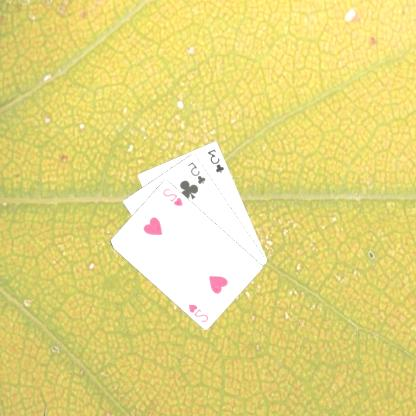2H: (162, 186, 186, 208), (187, 301, 211, 323)
3C: (206, 146, 228, 174)
5C: (186, 159, 209, 185)
